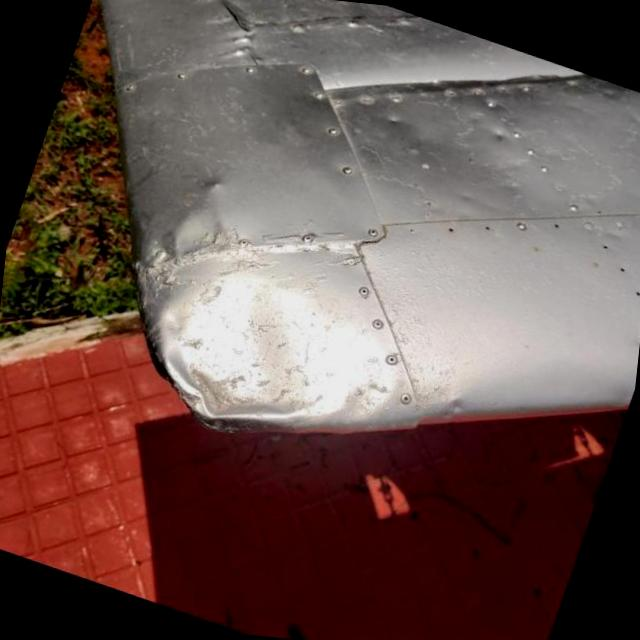dent: (133, 226, 387, 444), (150, 167, 256, 267), (434, 382, 471, 420)
